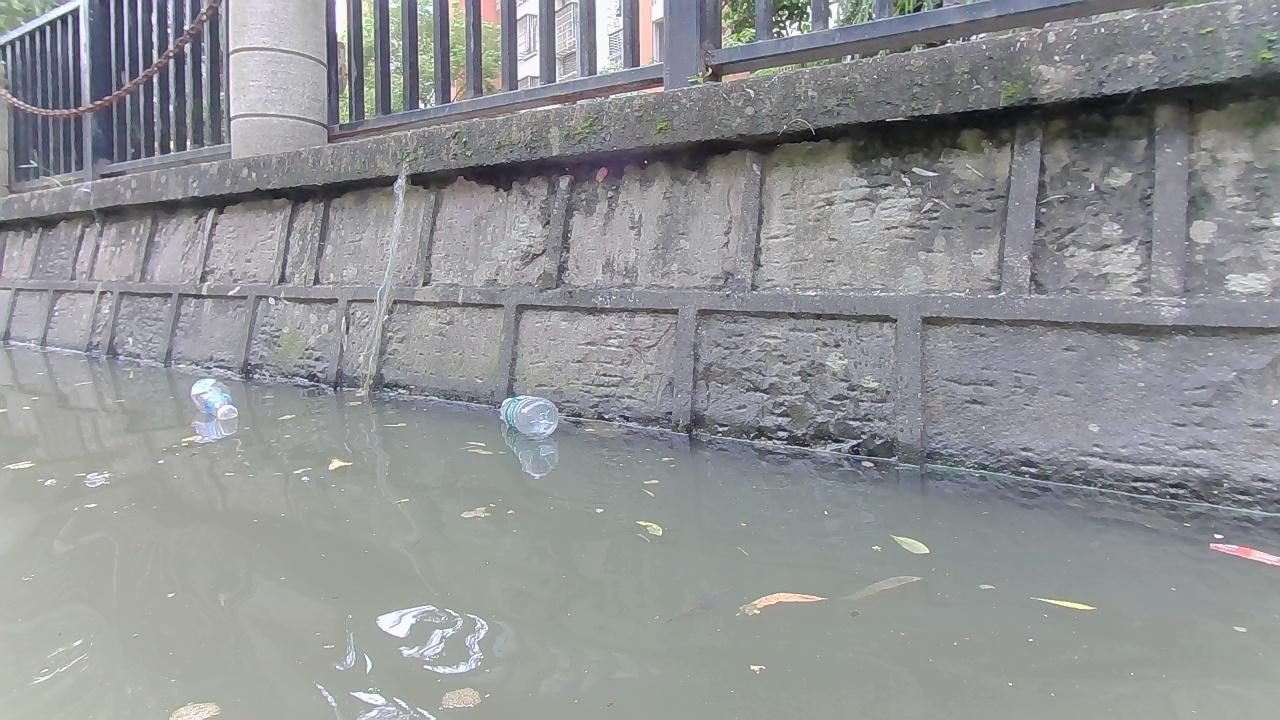bottle: (495, 392, 557, 437), (191, 376, 238, 420)
